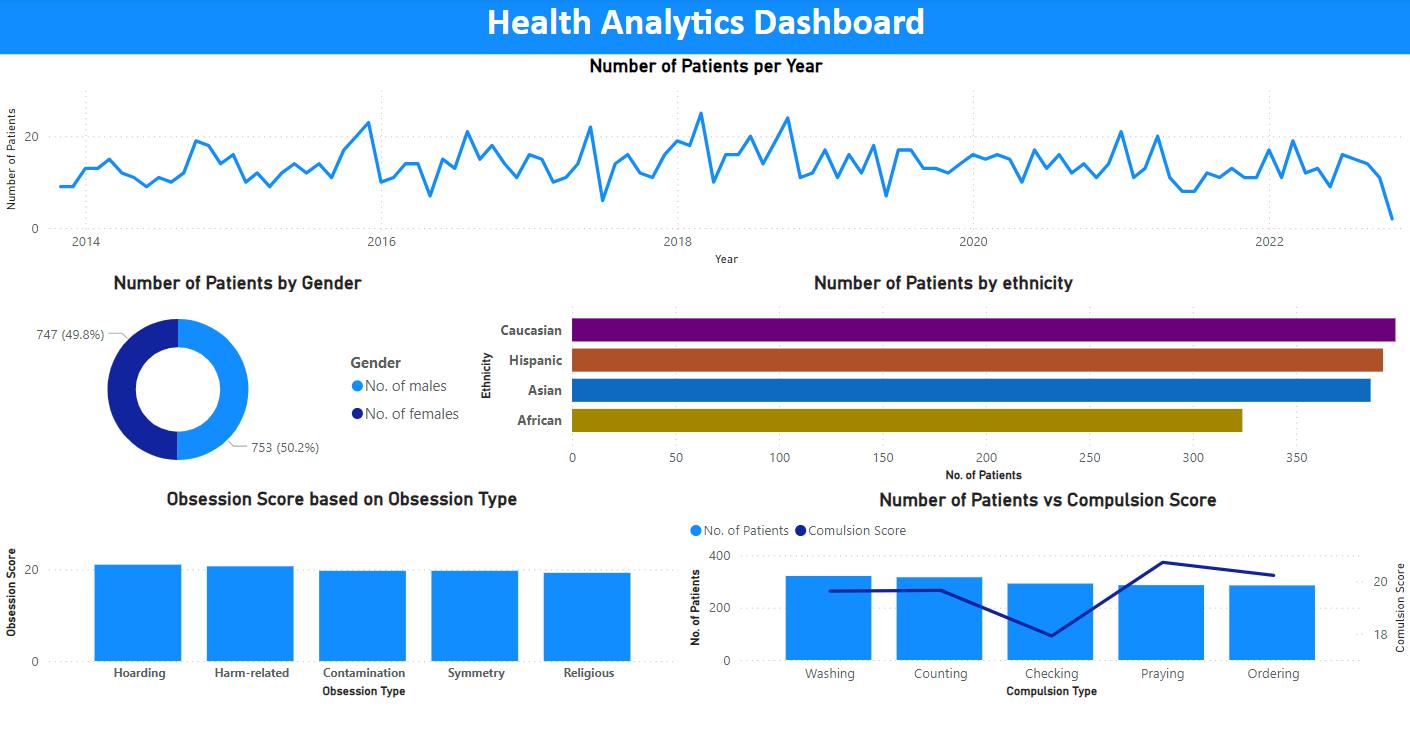

The page's visual inventory and layout, read from the dashboard file:
{"tool":"powerbi","page":{"name":"Page 1","canvas":[1280,720],"ordinal":0},"visuals":[{"type":"lineChart","title":"Number of Patients per Year","fields":{"Y":["Sum(diagnosis mom.count(`Patient ID`))"],"Category":["diagnosis mom.month.Variation.Date Hierarchy.Year","diagnosis mom.month.Variation.Date Hierarchy.Quarter","diagnosis mom.month.Variation.Date Hierarchy.Month","diagnosis mom.month.Variation.Date Hierarchy.Day"]},"box":[0,50.8,1280.4,196.8],"z":0},{"type":"textbox","title":"Health Analytics Dashboard","box":[0,0,1280.4,50.8],"z":1000},{"type":"donutChart","title":"Number of Patients by Gender","fields":{"Y":["Sum(gender.count_male)","Sum(gender.count_female)"]},"box":[0,247.6,430.7,195.9],"z":2000},{"type":"clusteredBarChart","title":"Number of Patients by ethnicity","fields":{"Category":["ethnicity.ethnicity"],"Y":["Sum(ethnicity.Patient_count)"]},"box":[430.7,247.6,849.7,195.9],"z":3000},{"type":"clusteredColumnChart","title":"Obsession Score based on Obsession Type","fields":{"Category":["obs_type.Obsession Type"],"Y":["Sum(obs_type.Obs_Score)"]},"box":[0,443.4,620.3,195.9],"z":4000},{"type":"lineClusteredColumnComboChart","title":"Number of Patients vs Compulsion Score","fields":{"Category":["com_type.Compulsion Type"],"Y":["Sum(com_type.patient_count)"],"Y2":["Sum(com_type.Com_Score)"]},"box":[620.3,444.3,660.2,195],"z":5000}]}

Visuals, with their boxes on the page's 1280x720 design canvas (x1, y1, x2, y2). These are canvas units, not pixel positions in the 1410x743 screenshot, which may show the page scaled, cropped or inside an application window:
"Number of Patients per Year" lineChart: 0 51 1280 248
"Health Analytics Dashboard" textbox: 0 0 1280 51
"Number of Patients by Gender" donutChart: 0 248 431 444
"Number of Patients by ethnicity" clusteredBarChart: 431 248 1280 444
"Obsession Score based on Obsession Type" clusteredColumnChart: 0 443 620 639
"Number of Patients vs Compulsion Score" lineClusteredColumnComboChart: 620 444 1280 639
